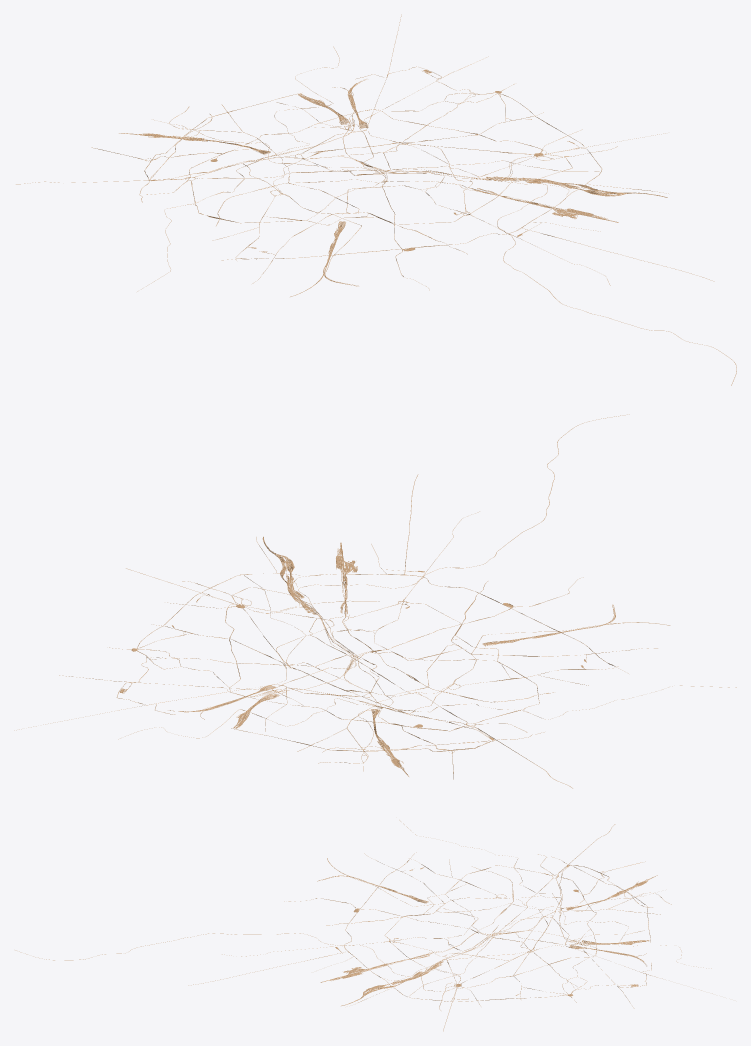
The model's file is rail.glb.
3 views of the same model, one above another, from view 1: azimuth 30°, elevation 25°; view 2: azimuth 150°, elevation 25°; view 3: azimuth 270°, elevation 25° (orthographic). The views are drawn at different scales.
Parts seen in each view (by area): view 1: rail; view 2: rail; view 3: rail.
Boxes of the visible parts, bbox=[...] form: rail: bbox=[16, 14, 736, 385]; rail: bbox=[14, 414, 736, 788]; rail: bbox=[15, 820, 712, 1031].
Size of the model in its own units: 14620 by 112 by 20834.
